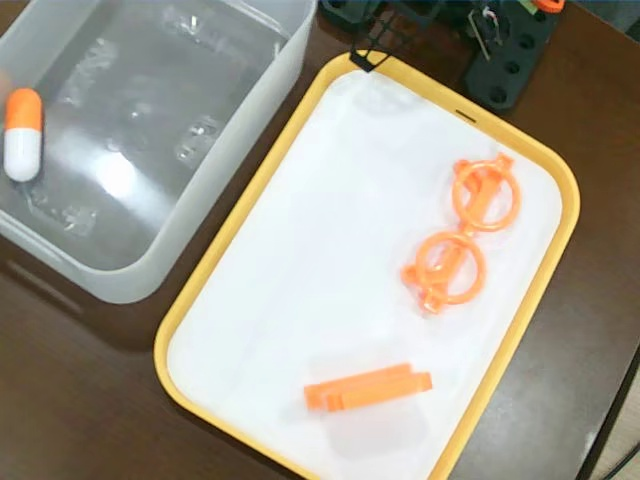pill: (3, 88, 43, 184)
